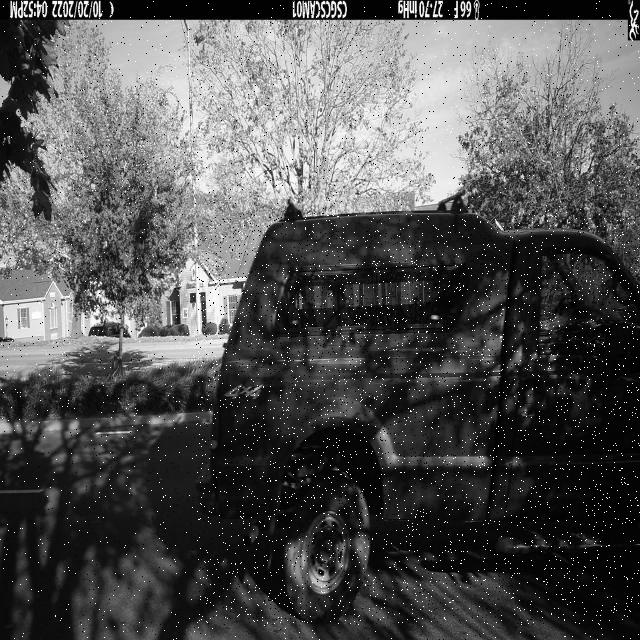Pickup: (197, 213, 640, 624)
